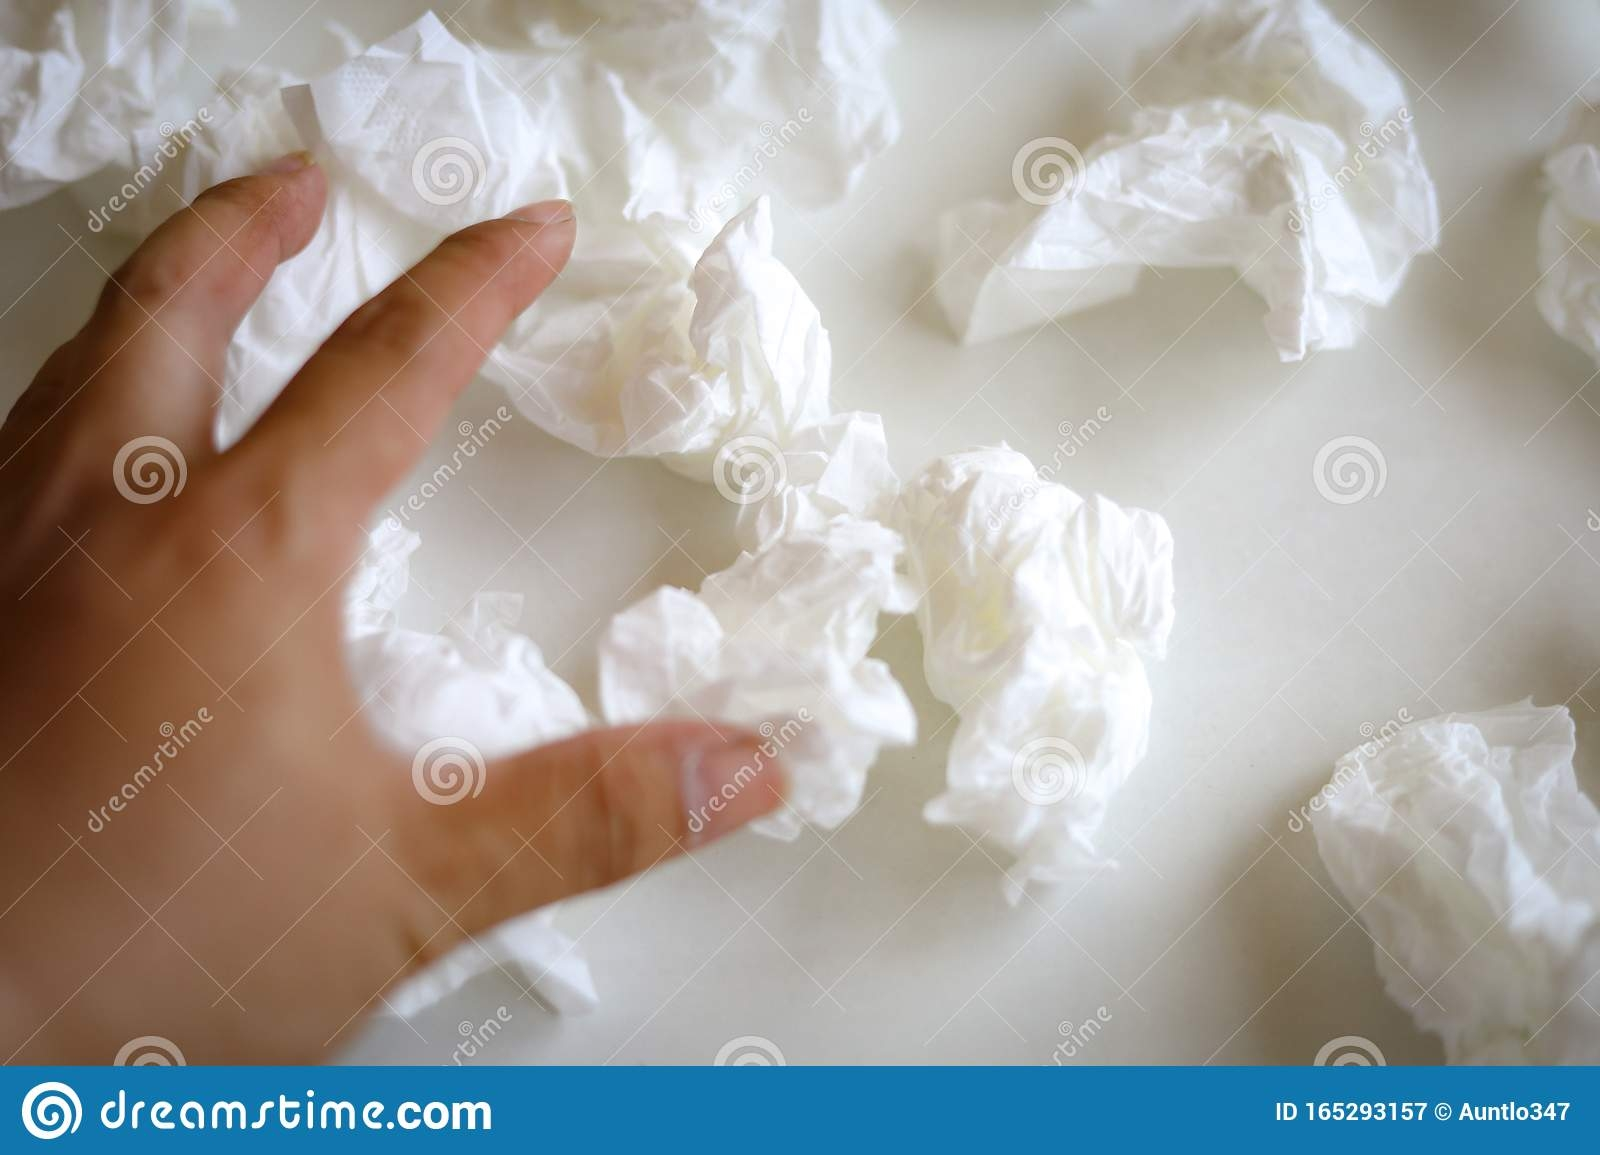paper: (302, 1, 950, 493), (922, 4, 1499, 423), (7, 1, 396, 451), (566, 404, 944, 854), (291, 515, 624, 1026), (873, 421, 1198, 922), (1266, 674, 1600, 1073)
